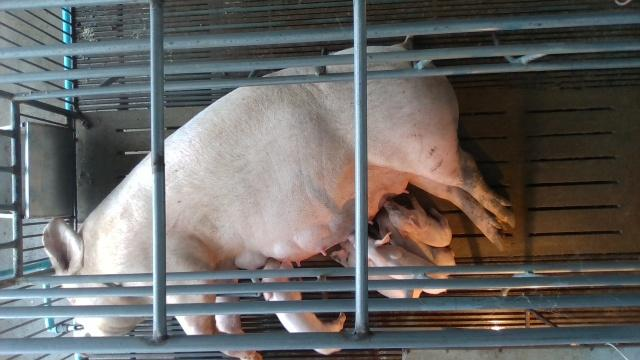piglet: (260, 259, 346, 358), (349, 232, 450, 294), (378, 215, 457, 267), (383, 195, 452, 248)
sow-sleep-lactate: (42, 45, 516, 360)
